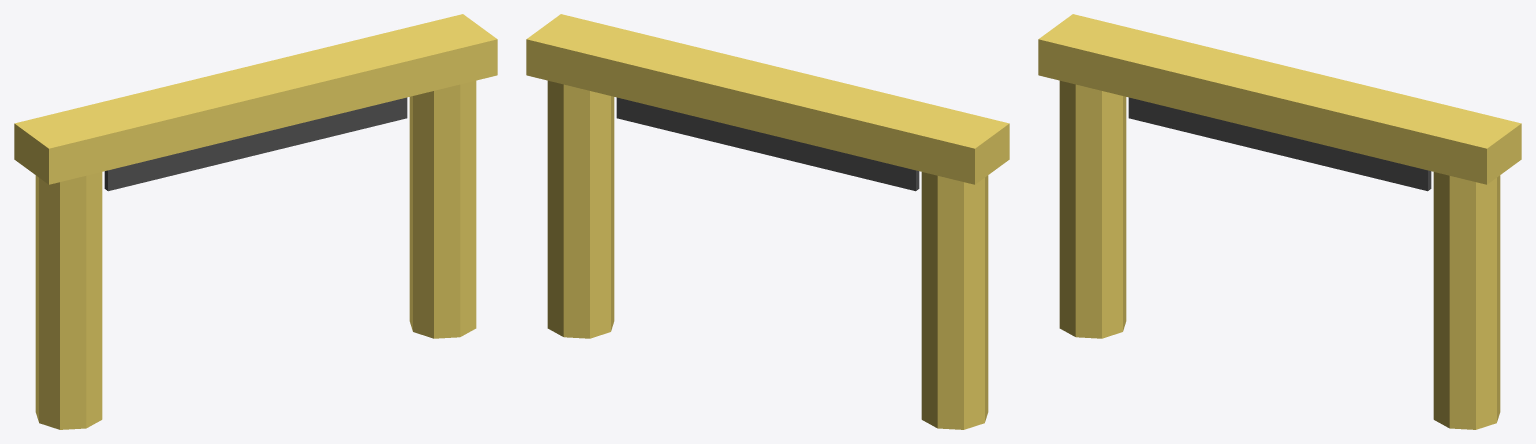
File: Finish_Arch.fbx
The picture shows the model from 3 angles, left to right: view 1: azimuth 30°, elevation 25°; view 2: azimuth 150°, elevation 25°; view 3: azimuth 330°, elevation 25°; orthographic projection.
Visible parts, largest first — view 1: Finish_Arch; view 2: Finish_Arch; view 3: Finish_Arch.
Part boxes in pixels (x1,y1,x2,y2): Finish_Arch: (14, 14, 497, 429); Finish_Arch: (526, 14, 1009, 429); Finish_Arch: (1038, 14, 1521, 429).
Size of the model in its own units: 7.8 by 4.8 by 1.04.
